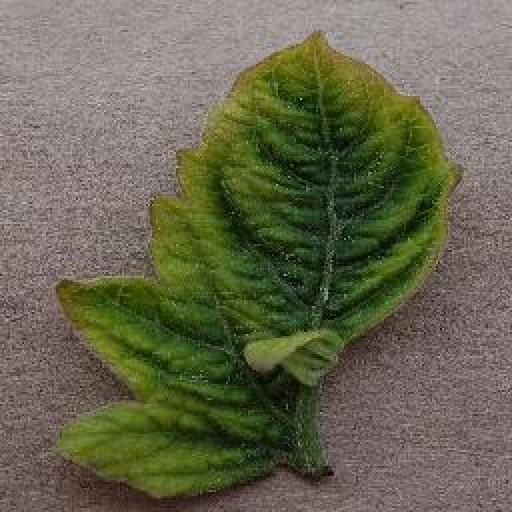Yellow Leaf Curl Virus: (43, 28, 463, 501)
